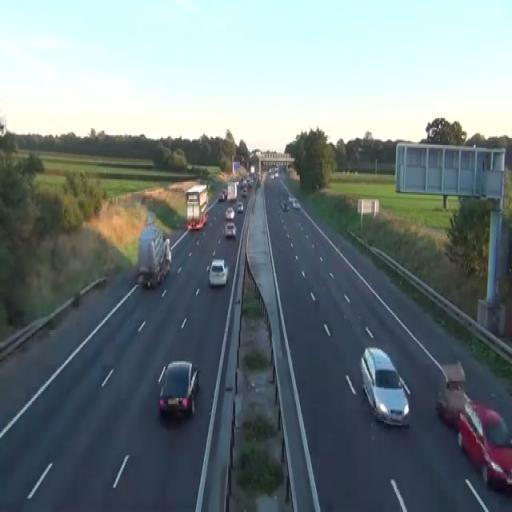Bus: (186, 184, 208, 230)
Car: (457, 399, 512, 493), (360, 346, 410, 428), (158, 361, 200, 420), (208, 259, 230, 287), (224, 222, 236, 240), (236, 202, 244, 213)
Truck: (138, 226, 172, 290)
